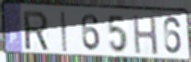5: (108, 15, 130, 54)
6: (162, 16, 184, 58), (80, 14, 102, 53)
H: (132, 14, 160, 57)
I: (59, 10, 68, 54)
R: (21, 9, 50, 52)
